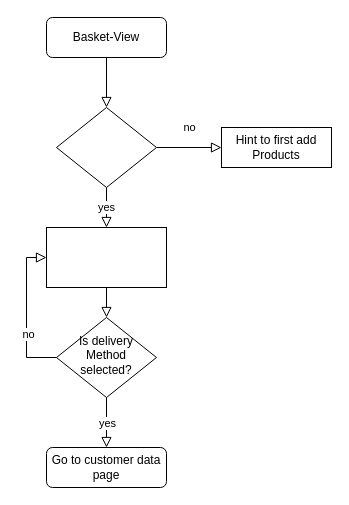
Some shapes in this 349 by 505 pixel diagram are drawn without their labels. The shapes that lost their labels are listed below. From the top down, each one's centre as x and y in pixels, then its label:
At point 106,147: "Are Products in the basket?".
At point 106,257: "select Delivery Method".
